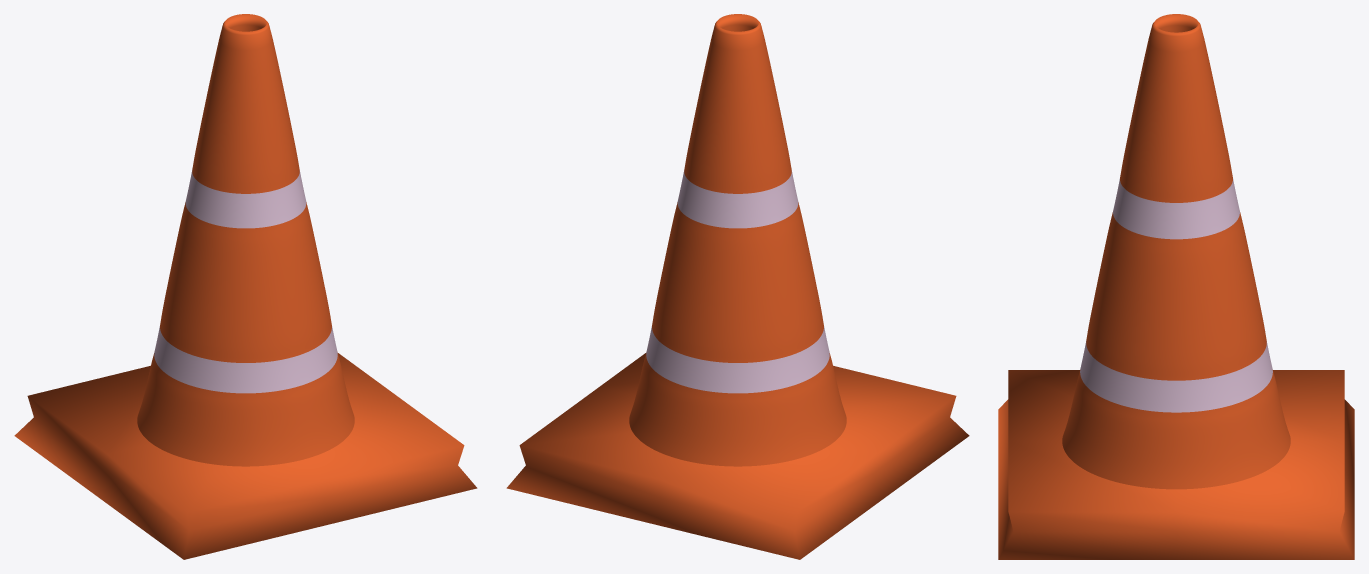
Rendered from cono.glb.
The picture shows the model from 3 angles, left to right: view 1: azimuth 30°, elevation 25°; view 2: azimuth 150°, elevation 25°; view 3: azimuth 270°, elevation 25°; orthographic projection. The views are drawn at different scales.
Visible parts, largest first — view 1: Cylinder, Cube; view 2: Cylinder, Cube; view 3: Cylinder, Cube.
Boxes of the visible parts, box(x1,y1,x2,y2) form: Cylinder: box(137, 14, 354, 466); Cube: box(14, 353, 477, 559); Cylinder: box(629, 14, 846, 466); Cube: box(506, 353, 969, 559); Cylinder: box(1062, 14, 1290, 489); Cube: box(998, 370, 1354, 559).
Bounding box in the file's own units: 1.01 × 1.46 × 1.01.
